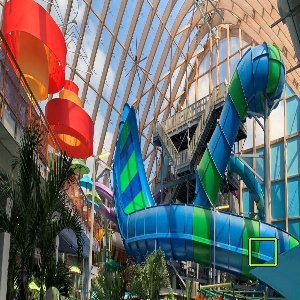square: (247, 237, 278, 267)
